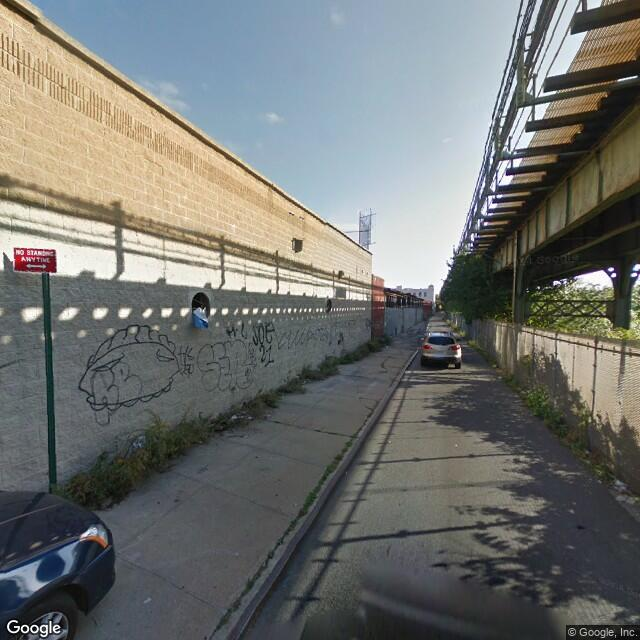litter: (615, 495, 639, 506), (248, 416, 259, 426), (141, 597, 153, 604), (614, 477, 624, 485), (263, 412, 271, 419), (226, 415, 238, 418), (490, 361, 497, 365), (452, 442, 464, 444), (497, 375, 504, 378), (383, 345, 389, 348)
